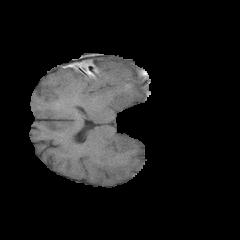glioma: (50, 59, 106, 105)
